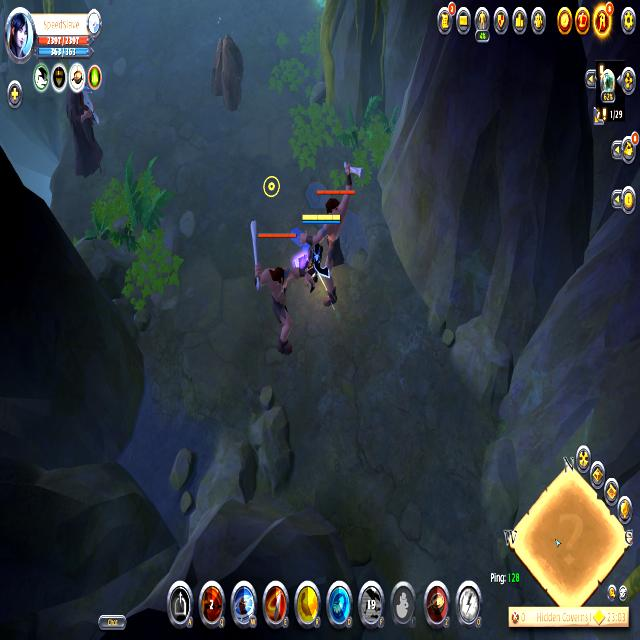ore: (252, 220, 305, 376), (309, 160, 360, 321), (62, 73, 109, 185), (208, 34, 252, 118)
red: (291, 209, 342, 311)
